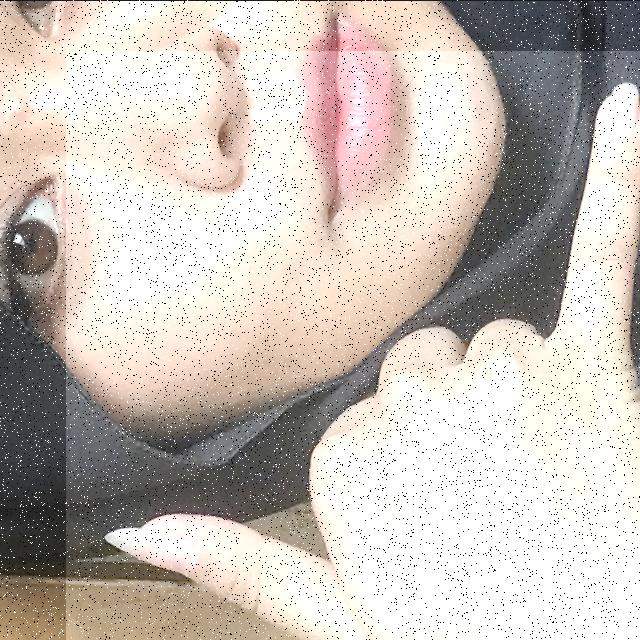telpon: (66, 50, 640, 640)
